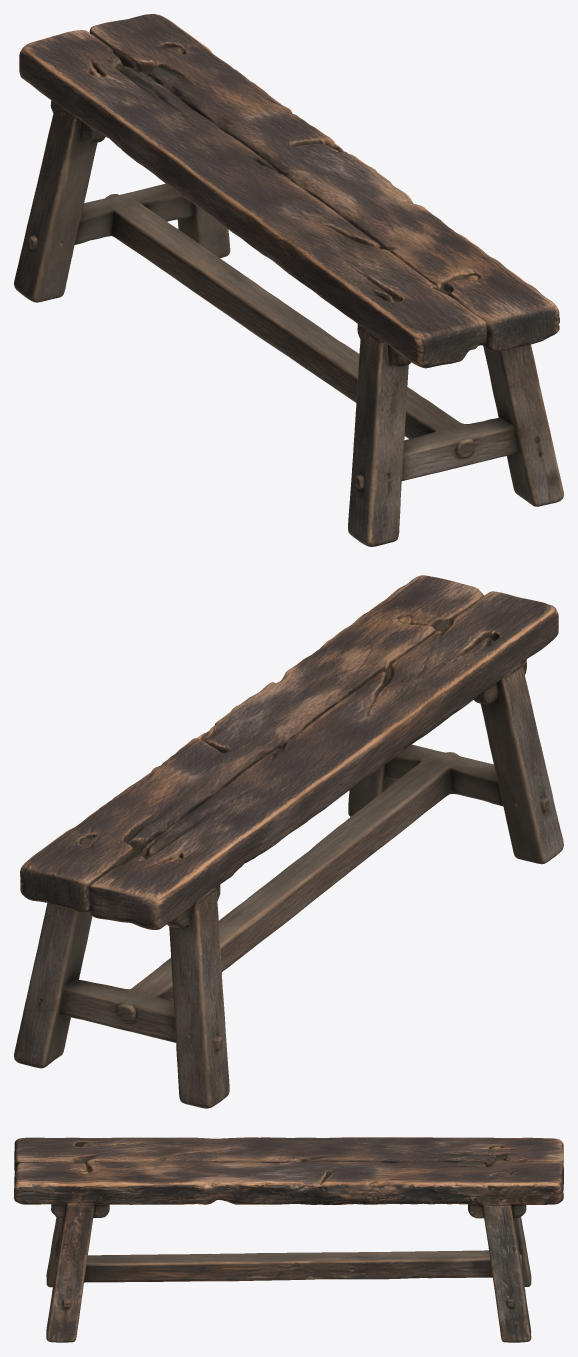
The model's file is 0-wooden-bench.glb.
3 views of the same model, one above another, from view 1: azimuth 30°, elevation 25°; view 2: azimuth 150°, elevation 25°; view 3: azimuth 270°, elevation 25° (orthographic). The views are drawn at different scales.
Parts seen in each view (by area): view 1: tripo_node_e1f05265-fe0c-4726-bd63-b129e7ae10fb; view 2: tripo_node_e1f05265-fe0c-4726-bd63-b129e7ae10fb; view 3: tripo_node_e1f05265-fe0c-4726-bd63-b129e7ae10fb.
Boxes of the visible parts, x1,y1,x2,y2 form: tripo_node_e1f05265-fe0c-4726-bd63-b129e7ae10fb: (14,14,563,546); tripo_node_e1f05265-fe0c-4726-bd63-b129e7ae10fb: (14,575,563,1108); tripo_node_e1f05265-fe0c-4726-bd63-b129e7ae10fb: (14,1137,563,1342).
Size of the model in its own units: 0.2835 by 0.3052 by 1.
Materials: 1 (1 with a texture image).
